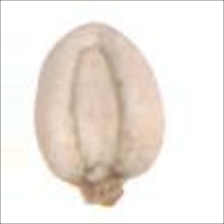L5: (67, 45, 128, 171), (72, 164, 133, 210), (62, 20, 125, 37)
L6: (31, 19, 171, 211)
